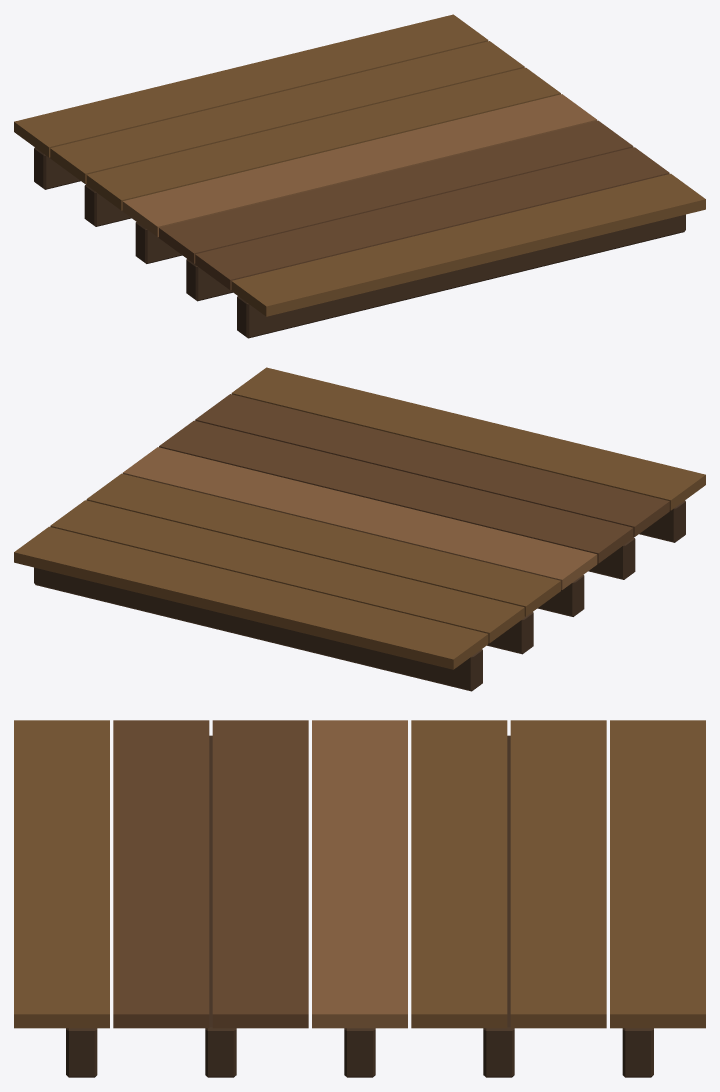
Rendered from mdvl_village_ceiling_01.glb.
3 renders of one model, top to bottom at view 1: azimuth 30°, elevation 25°; view 2: azimuth 150°, elevation 25°; view 3: azimuth 270°, elevation 25°, orthographic. The views are drawn at different scales.
Visible parts, largest first — view 1: mdvl_village_ceiling_01; view 2: mdvl_village_ceiling_01; view 3: mdvl_village_ceiling_01.
Boxes of the visible parts, x1,y1,x2,y2 form: mdvl_village_ceiling_01: (14,14,705,338); mdvl_village_ceiling_01: (14,367,705,691); mdvl_village_ceiling_01: (14,720,705,1077).
Size of the model in its own units: 2 by 0.205 by 1.99.
Materials: 1 (1 with a texture image).
